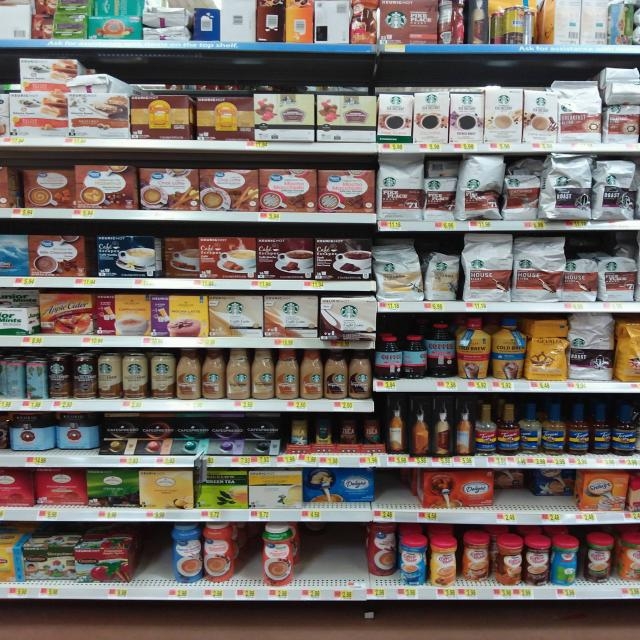void: (338, 525, 370, 602), (137, 524, 166, 607), (305, 524, 334, 600), (376, 469, 418, 521)
